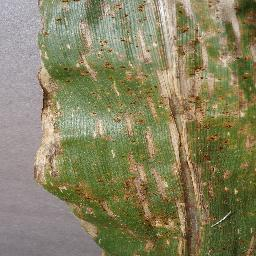Gray_Leaf_Spot: (23, 0, 256, 256)
